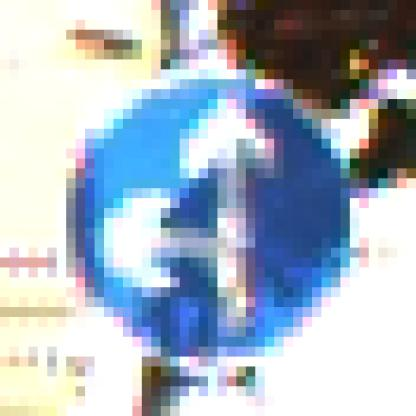Straight or Left: (48, 51, 370, 368)
